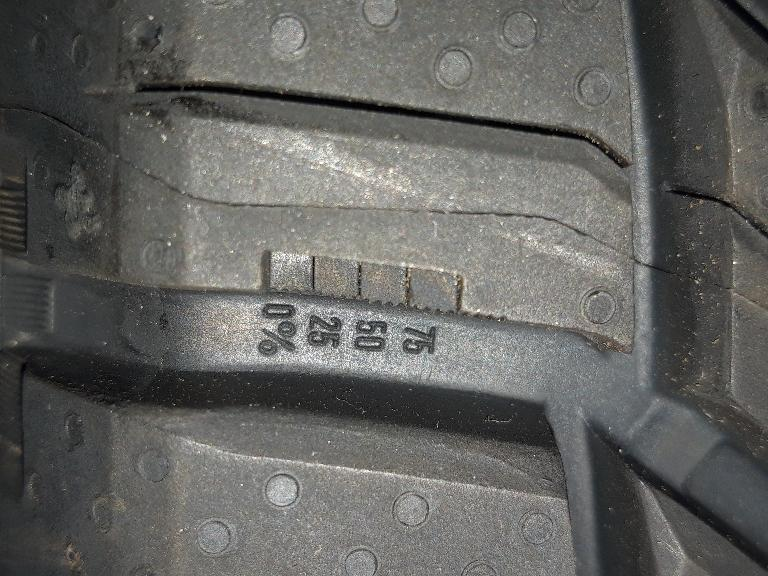temoin:100: (252, 242, 516, 339)
